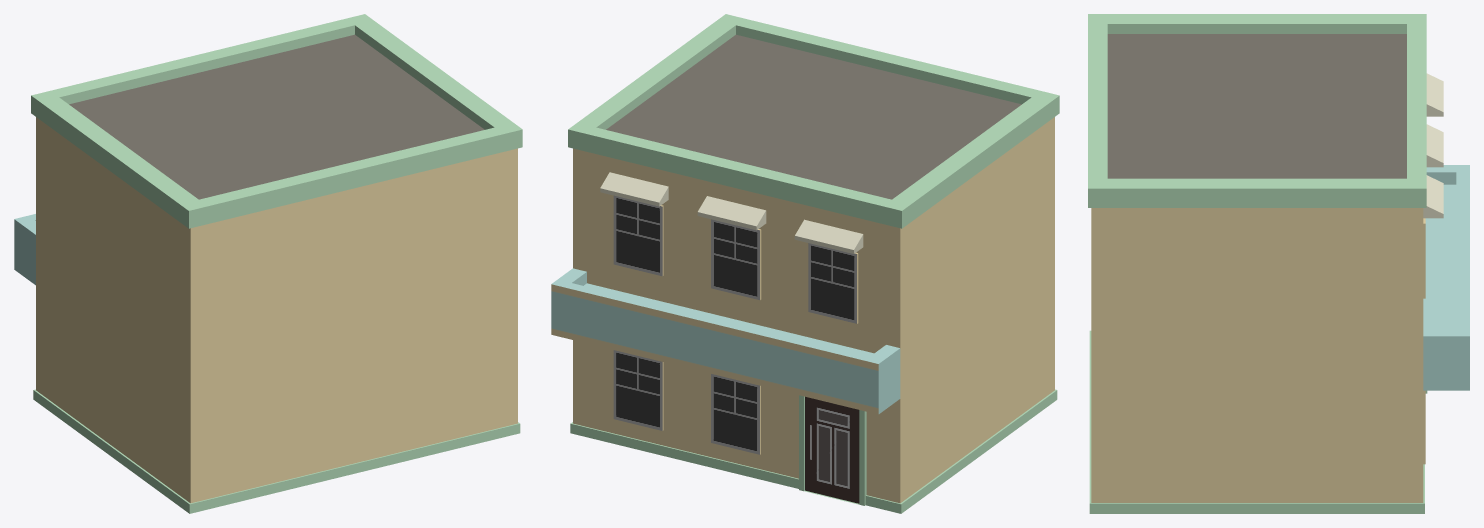
File: Buliding_Orange.fbx
3 renders of one model, left to right at view 1: azimuth 30°, elevation 25°; view 2: azimuth 150°, elevation 25°; view 3: azimuth 270°, elevation 25°, orthographic. The views are drawn at different scales.
Parts seen in each view (by area): view 1: Building_Orange; view 2: Building_Orange; view 3: Building_Orange.
Boxes of the visible parts, bbox=[...] form: Building_Orange: bbox=[14, 14, 522, 513]; Building_Orange: bbox=[551, 14, 1059, 513]; Building_Orange: bbox=[1088, 14, 1469, 513].
Bounding box in the file's own units: 33.66 × 29.27 × 31.06.
Materials: 1 (1 with a texture image).
